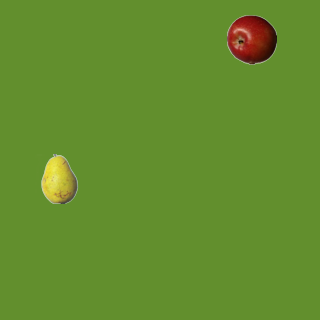Apple Braeburn: (226, 14, 276, 64)
Pear Monster: (34, 153, 84, 203)
